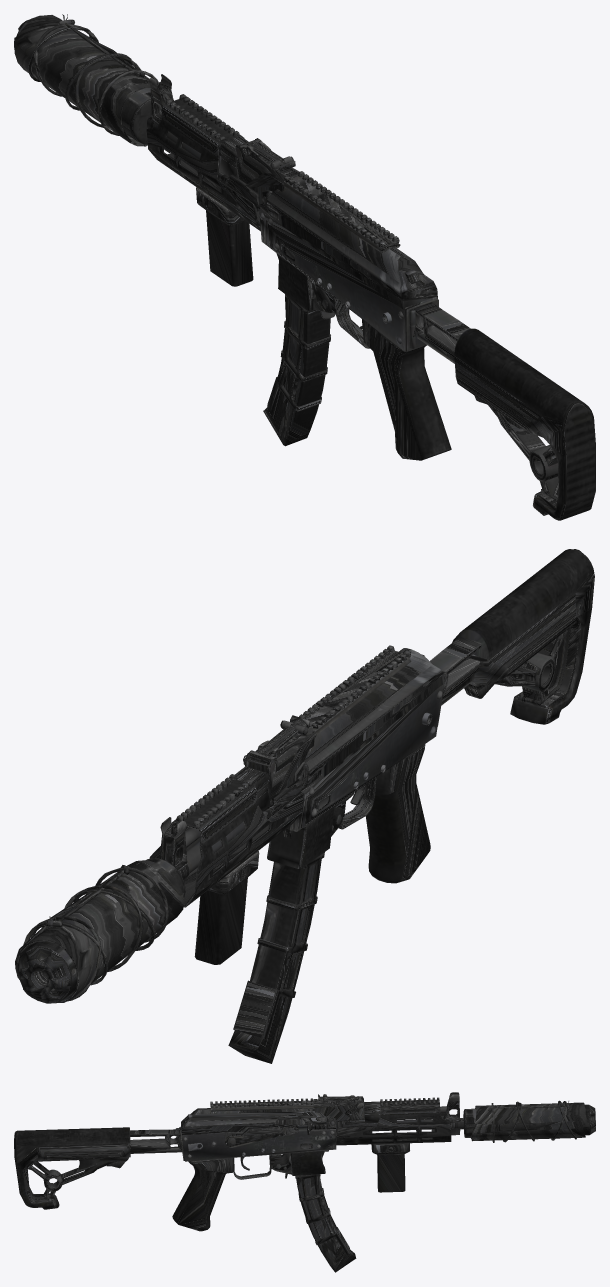
3 views of the same model, one above another, from view 1: azimuth 30°, elevation 25°; view 2: azimuth 150°, elevation 25°; view 3: azimuth 270°, elevation 25° (orthographic). The views are drawn at different scales.
Size of the model in its own units: 0.0938 by 0.295 by 0.9199.
Materials: 1 (1 with a texture image).
